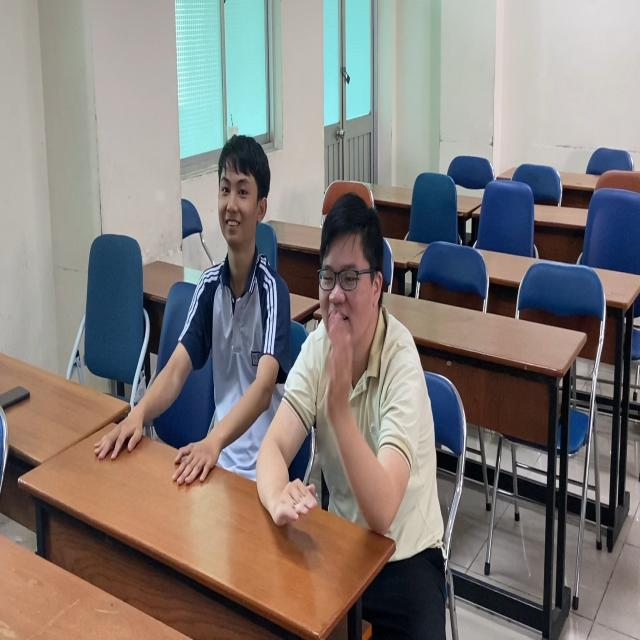raise_hand: (249, 186, 443, 550)
